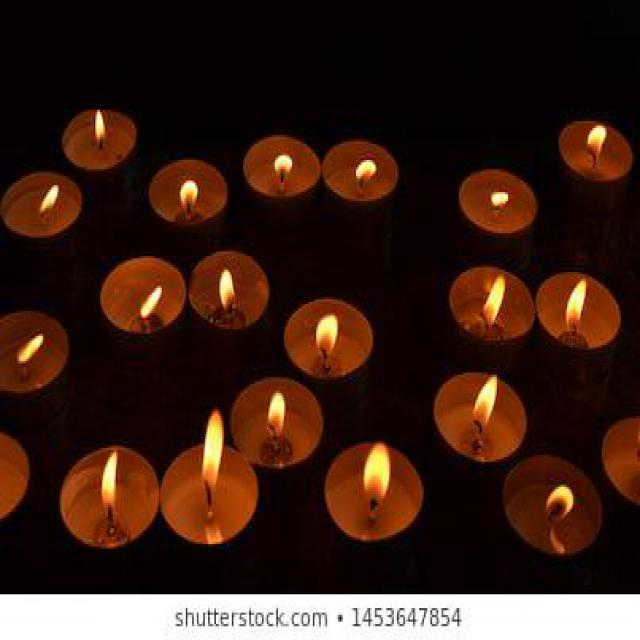Fire: (201, 408, 223, 495), (363, 443, 391, 508), (472, 375, 498, 439), (545, 481, 575, 525), (100, 449, 118, 516), (266, 390, 287, 447), (315, 314, 339, 362), (484, 273, 504, 330), (566, 278, 587, 332), (16, 334, 44, 366), (586, 124, 608, 162), (218, 268, 236, 312), (37, 183, 61, 215), (140, 287, 162, 319), (355, 158, 377, 190), (179, 179, 199, 214), (274, 152, 292, 184), (94, 108, 106, 146), (491, 190, 509, 208)
